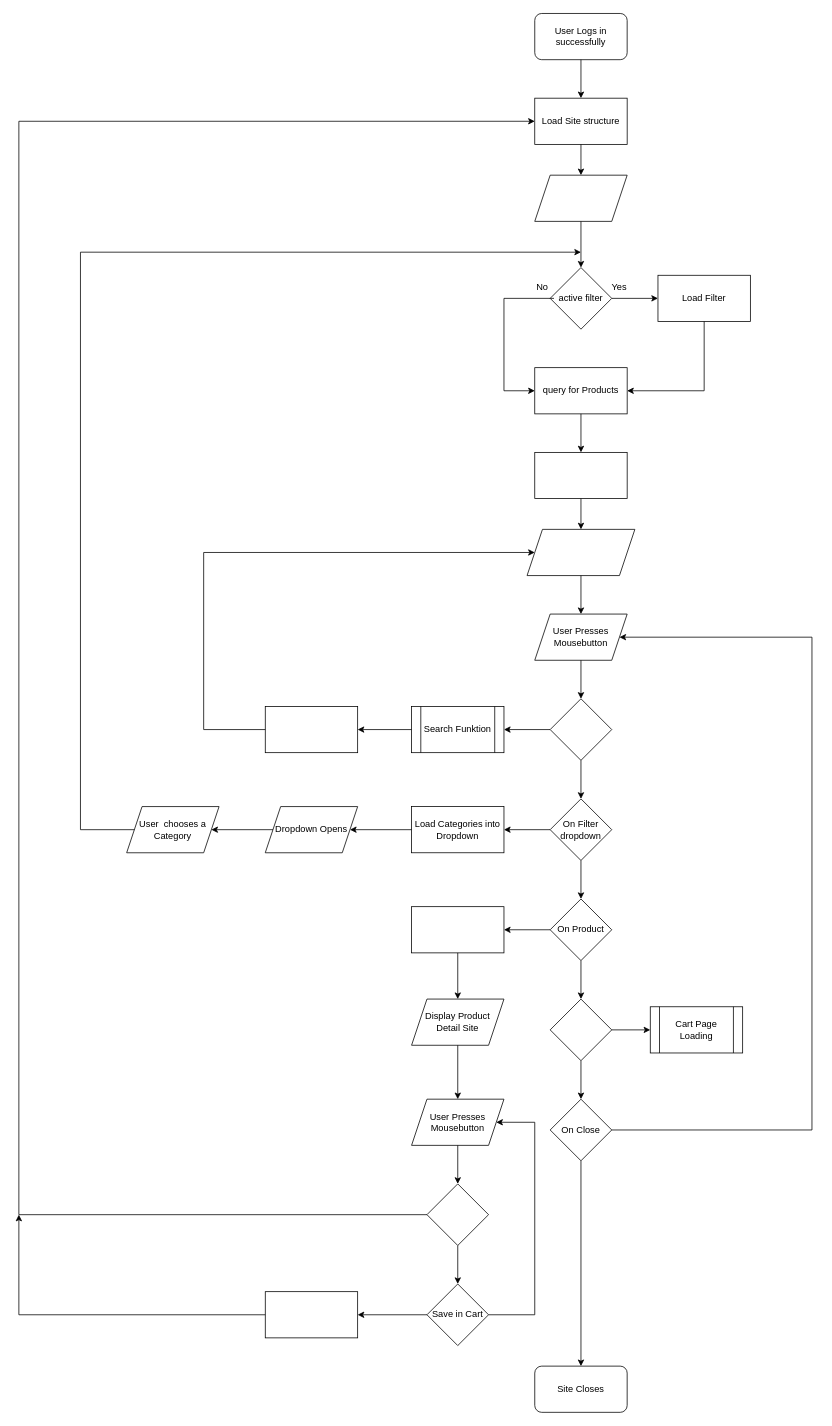
Some shapes in this 832 by 1426 pixel diagram are drawn without their labels. The box of each missing label's shape, as (x1, y1, x2, y2) in pixels:
Back: (426, 1183, 489, 1245)
Display Products: (526, 529, 635, 576)
Display Site: (534, 174, 627, 221)
Load Product Detail Site with Product Data: (411, 906, 504, 953)
Load queried Products into their Elements in the Site structure: (534, 452, 627, 499)
Load Results of search int their elements: (264, 706, 358, 753)
On Cart: (549, 998, 612, 1061)
On Searchbar: (549, 698, 612, 760)
product is saved in users current cart: (264, 1291, 358, 1338)
